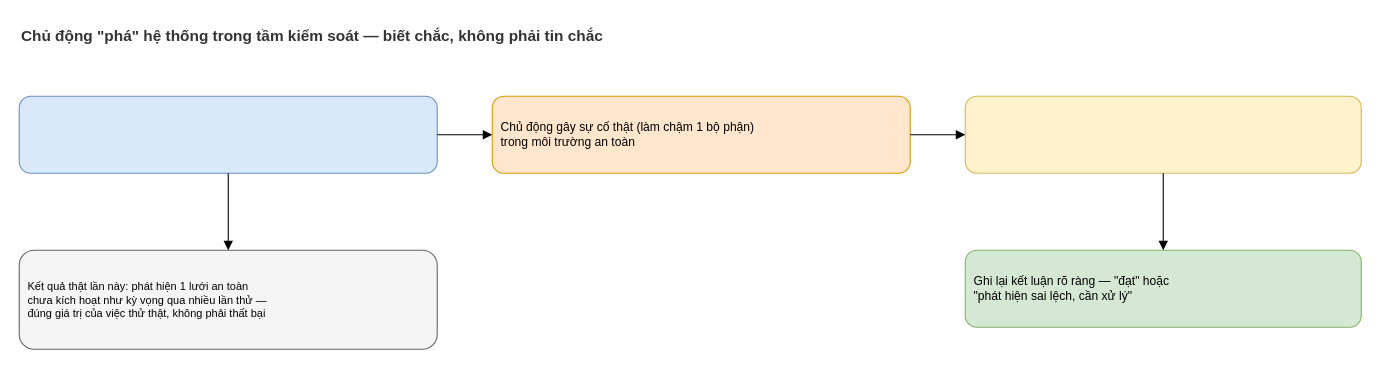
This 1381x369 diagram has some shape labels left out. Here are the shapes that lost their labels. From the top down, the centre of each, then its label:
the point at 227,134: Lưới an toàn (tự phục hồi, cảnh báo sớm) đã được xây và cấu hình từ trước
the point at 1162,134: Quan sát thật: lưới an toàn có kích hoạt đúng như kỳ vọng hay không
